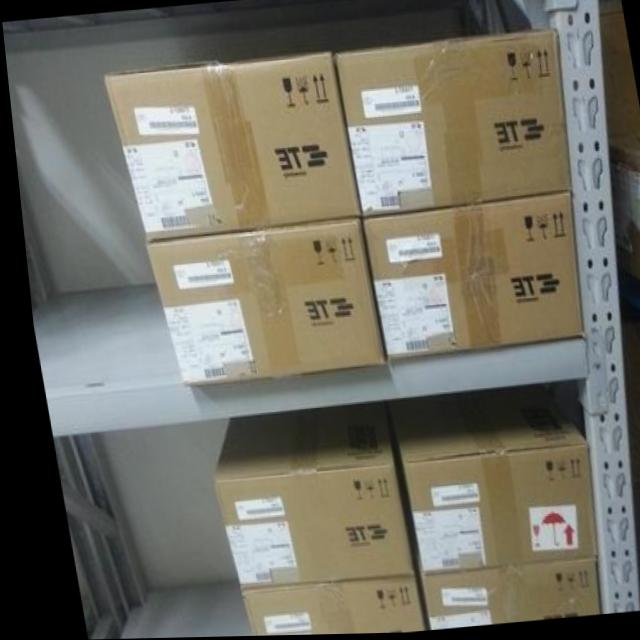box: (103, 53, 356, 240), (332, 32, 566, 218), (139, 219, 376, 387), (377, 383, 584, 574), (203, 403, 400, 587), (358, 195, 574, 359), (406, 561, 586, 629), (227, 577, 411, 637)
